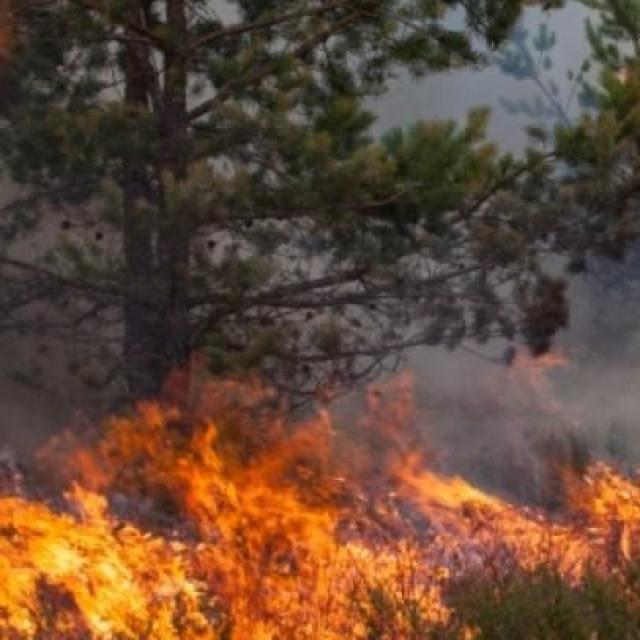Fire: (0, 361, 640, 640)
